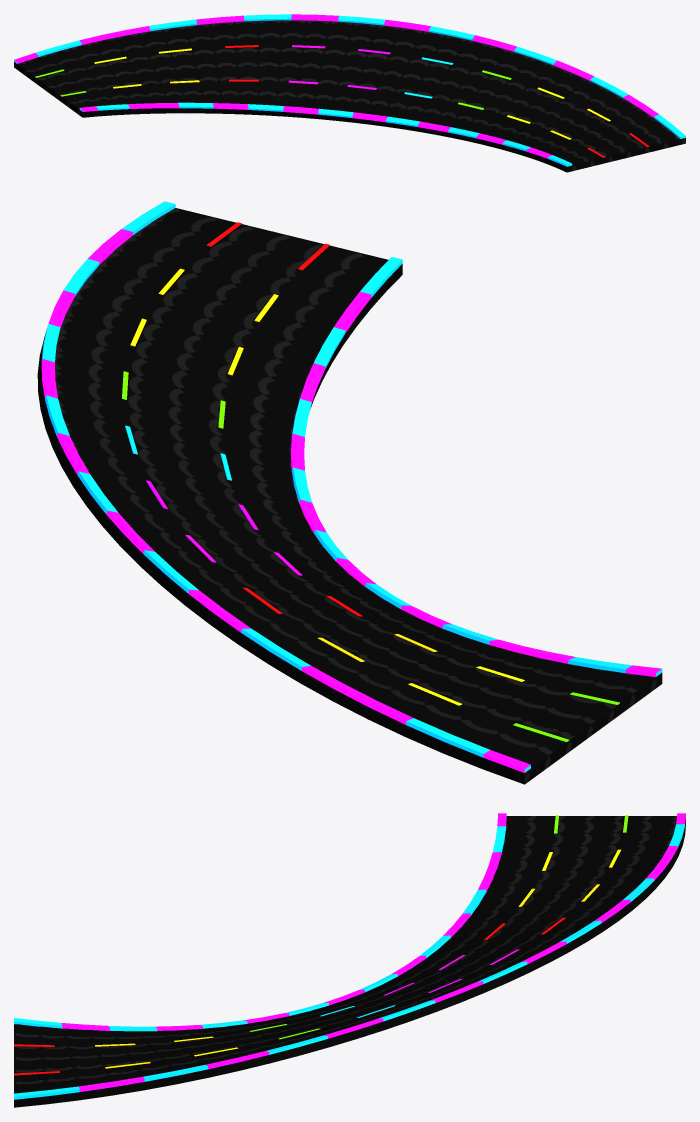
File: TrackTurn90L_r20m.glb
3 views of the same model, one above another, from view 1: azimuth 30°, elevation 25°; view 2: azimuth 150°, elevation 25°; view 3: azimuth 270°, elevation 25° (orthographic). The views are drawn at different scales.
Visible parts, largest first — view 1: Floor, Curb.R, Curb.L, LaneLines; view 2: Floor, Curb.R, Curb.L, LaneLines; view 3: Floor, Curb.R, Curb.L, LaneLines.
Part boxes in pixels (box(x1,y1,x2,y2)): Floor: box(14, 20, 685, 172); Curb.R: box(14, 14, 685, 138); Curb.L: box(79, 102, 572, 166); LaneLines: box(35, 45, 649, 157); Floor: box(37, 208, 662, 784); Curb.R: box(41, 201, 530, 772); Curb.L: box(290, 257, 662, 676); LaneLines: box(122, 222, 619, 742); Floor: box(14, 816, 685, 1107); Curb.R: box(14, 813, 685, 1099); Curb.L: box(14, 813, 506, 1031); LaneLines: box(14, 815, 628, 1075).
Size of the model in its own units: 23.25 by 2.7 by 23.25.
8 materials, 1 textured.
